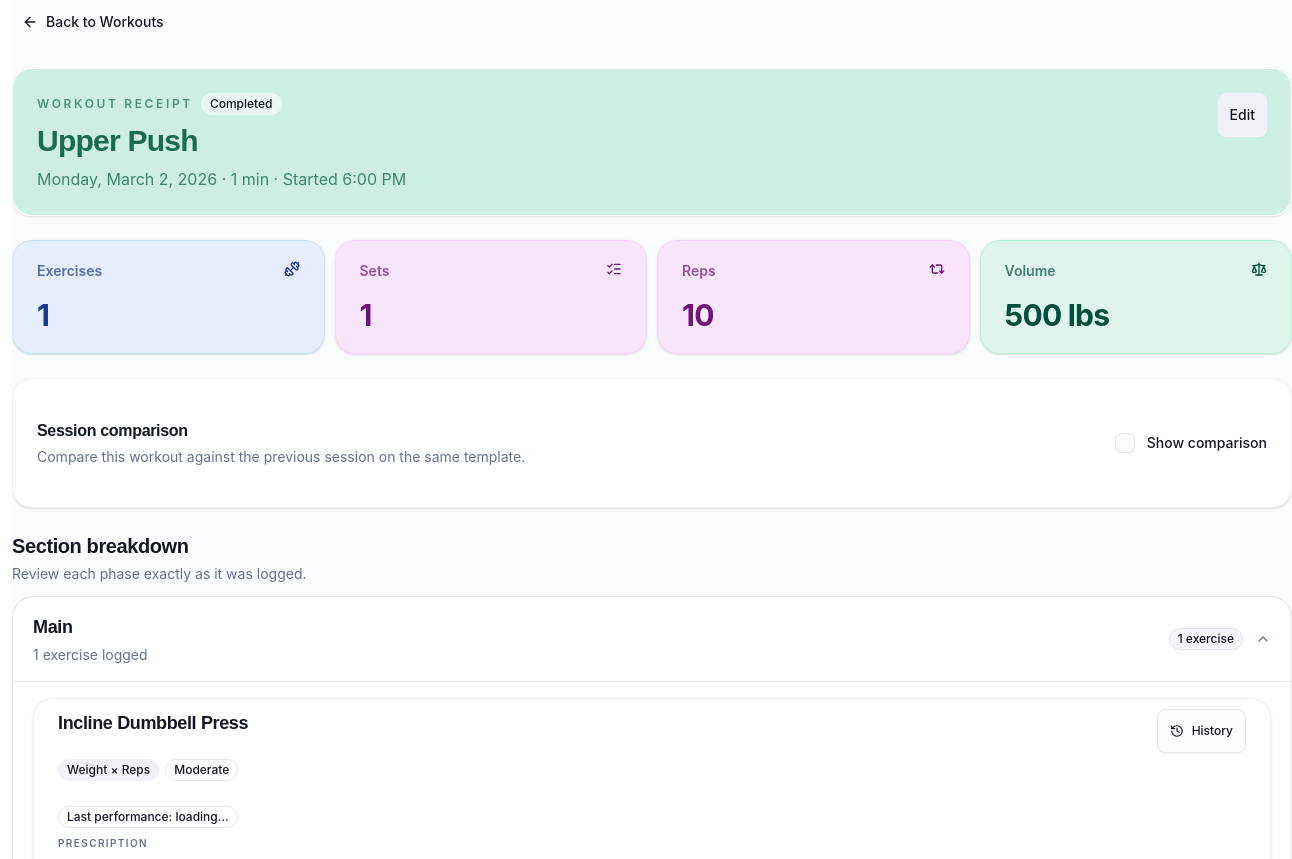
SessionDetail › shows the first-session fallback when there is no previous session for the template
Expected: the text "Workout receipt" is shown, [37,96,193,112]
Click the checkbox named "show comparison".
click(1125, 443)  # box [1115,433,1135,453]
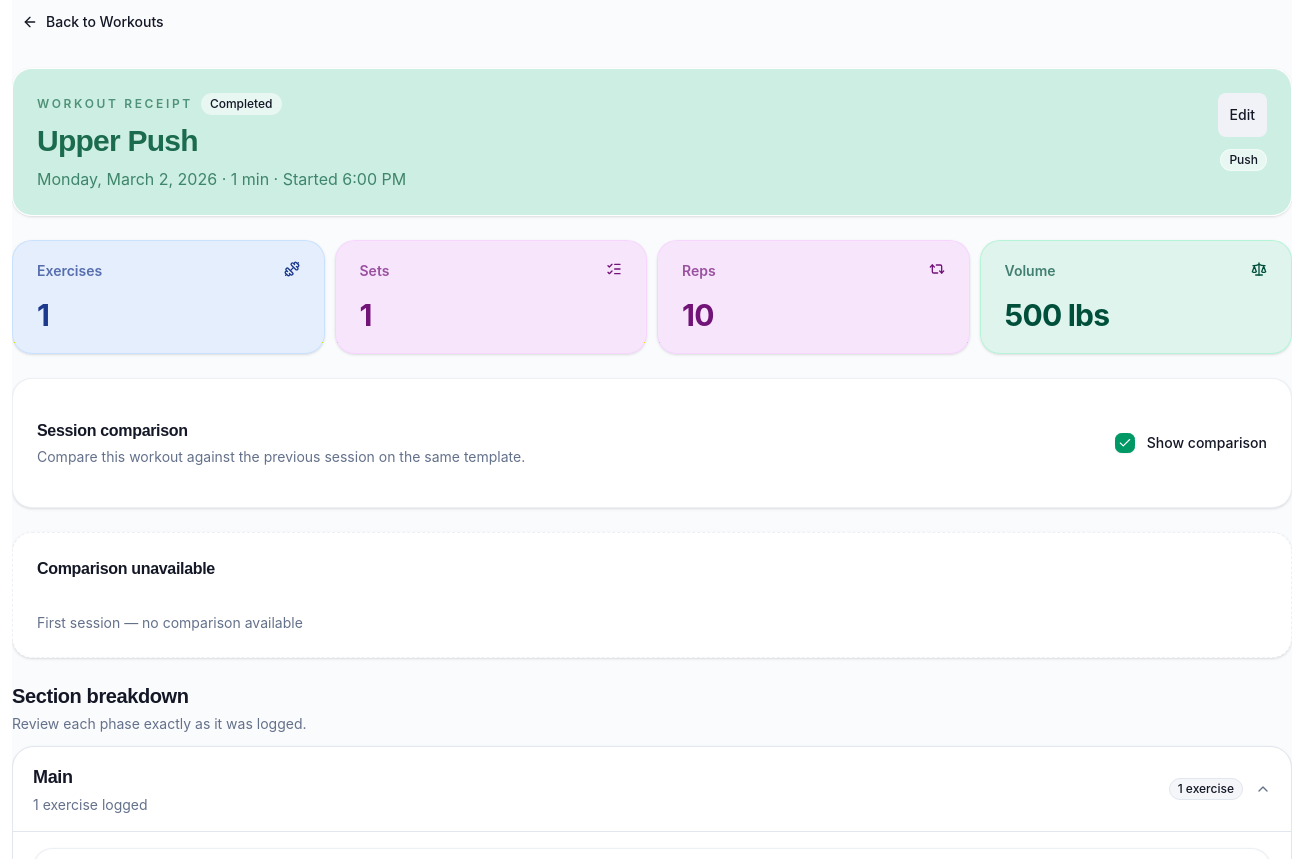
Expected: the text "First session — no comparison available" is shown, [37,614,303,631]
